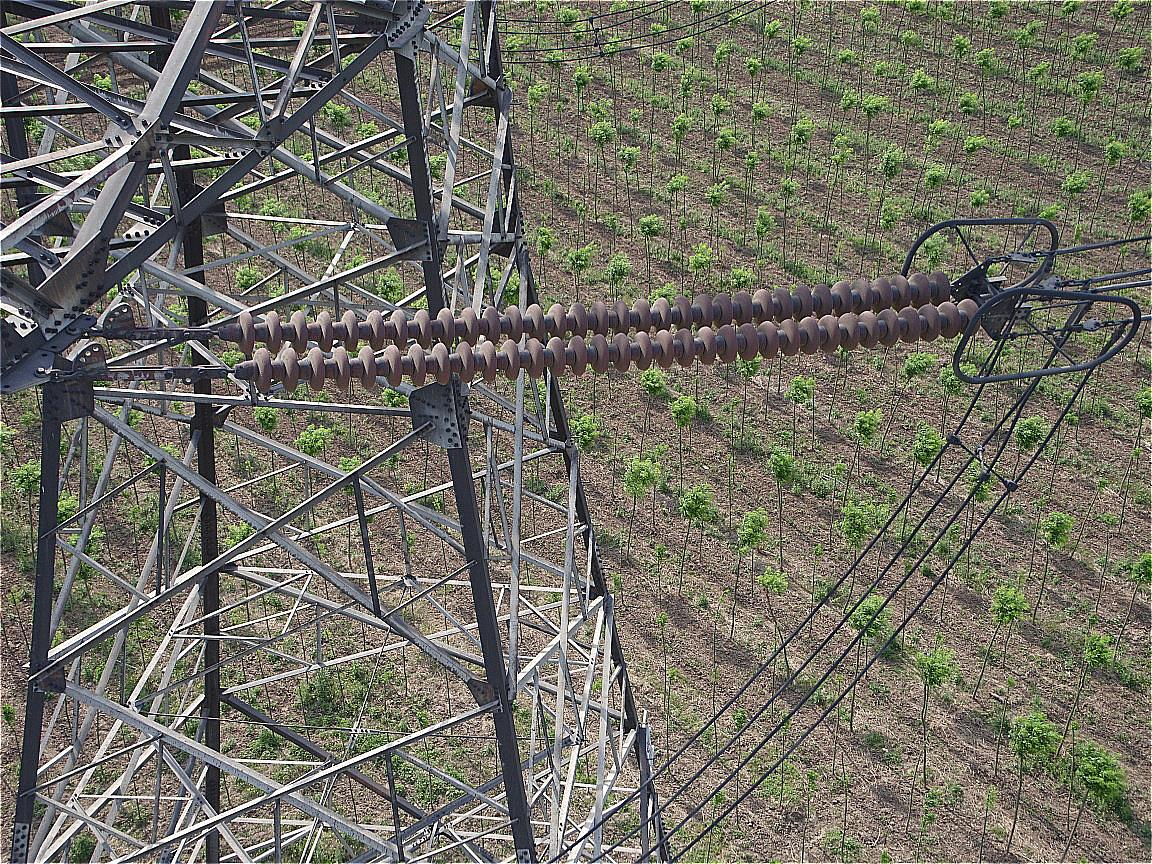insultor1: (239, 271, 981, 393)
